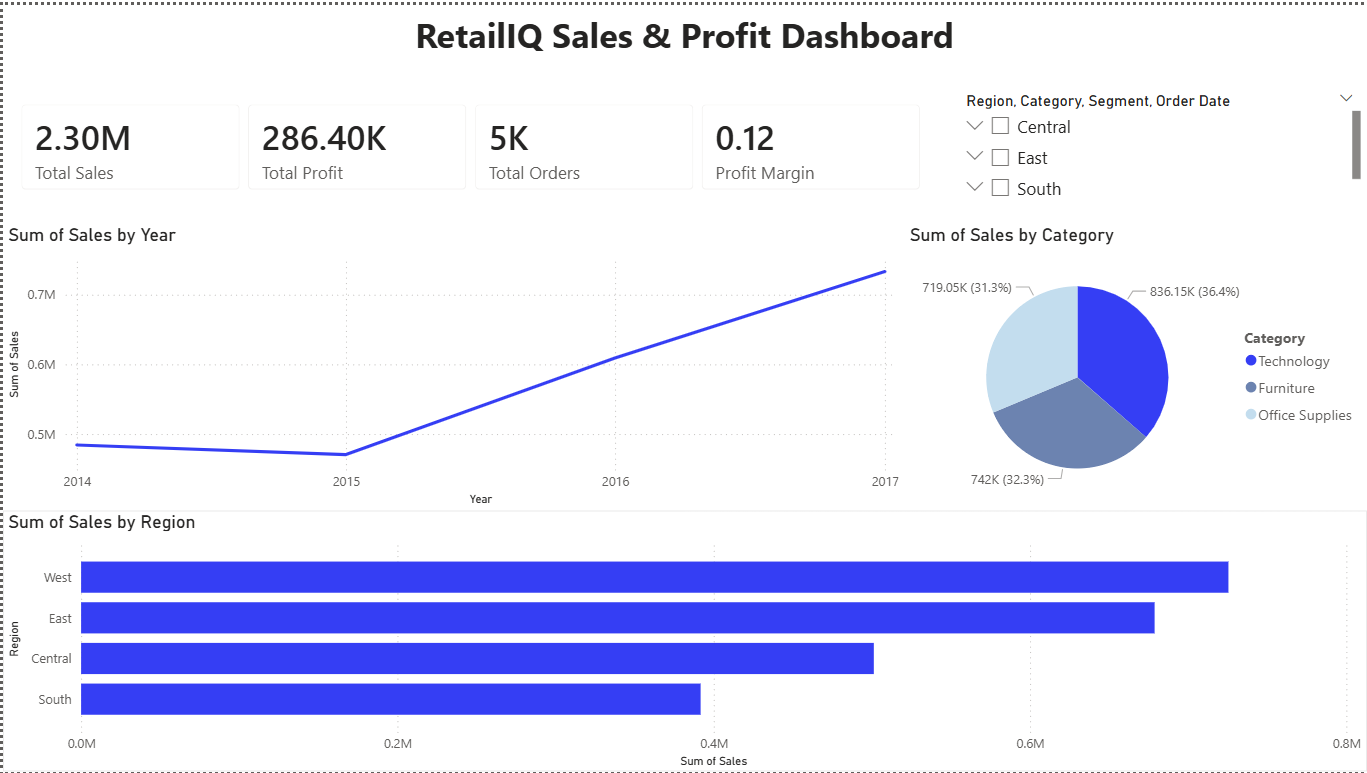

This screenshot's page, from the dashboard's own definition file:
{"tool":"powerbi","page":{"name":"Executive Overview","canvas":[1280,720],"ordinal":0},"visuals":[{"type":"textbox","box":[0,0,1280,280],"z":0},{"type":"cardVisual","fields":{"Data":["Sample - Superstore.Total Sales","Sample - Superstore.Total Profit","Sample - Superstore.Total Orders","Sample - Superstore.Profit Margin"]},"box":[0,75.7,878.6,114.3],"z":1000},{"type":"lineChart","fields":{"Category":["Sample - Superstore.Order Date.Variation.Date Hierarchy.Year","Sample - Superstore.Order Date.Variation.Date Hierarchy.Quarter","Sample - Superstore.Order Date.Variation.Date Hierarchy.Month","Sample - Superstore.Order Date.Variation.Date Hierarchy.Day"],"Y":["Sum(Sample - Superstore.Sales)"]},"box":[0,205.7,845.7,268.6],"z":2000},{"type":"clusteredBarChart","fields":{"Category":["Sample - Superstore.Region"],"Y":["Sum(Sample - Superstore.Sales)"]},"box":[0,474,1280,246],"z":3000},{"type":"pieChart","fields":{"Category":["Sample - Superstore.Category"],"Y":["Sum(Sample - Superstore.Sales)"]},"box":[846,206,434,268],"z":4000},{"type":"slicer","fields":{"Values":["Sample - Superstore.Region","Sample - Superstore.Category","Sample - Superstore.Segment","Sample - Superstore.Order Date"]},"box":[891.4,75.7,388.6,114.3],"z":5000}]}

Visuals, with their boxes in screenshot pixels (x1, y1, x2, y2), scaled from the page's 1280x720 canvas onto the 1367x773 screenshot:
textbox: <region>0, 0, 1366, 301</region>
cardVisual - Sample - Superstore.Total Sales x Sample - Superstore.Total Profit: <region>0, 81, 938, 204</region>
lineChart - Sample - Superstore.Order Date.Variation.Date Hierarchy.Year x Sample - Superstore.Order Date.Variation.Date Hierarchy.Quarter: <region>0, 221, 903, 509</region>
clusteredBarChart - Sample - Superstore.Region x Sum(Sample - Superstore.Sales): <region>0, 509, 1366, 772</region>
pieChart - Sample - Superstore.Category x Sum(Sample - Superstore.Sales): <region>904, 221, 1366, 509</region>
slicer - Sample - Superstore.Region x Sample - Superstore.Category: <region>952, 81, 1366, 204</region>
